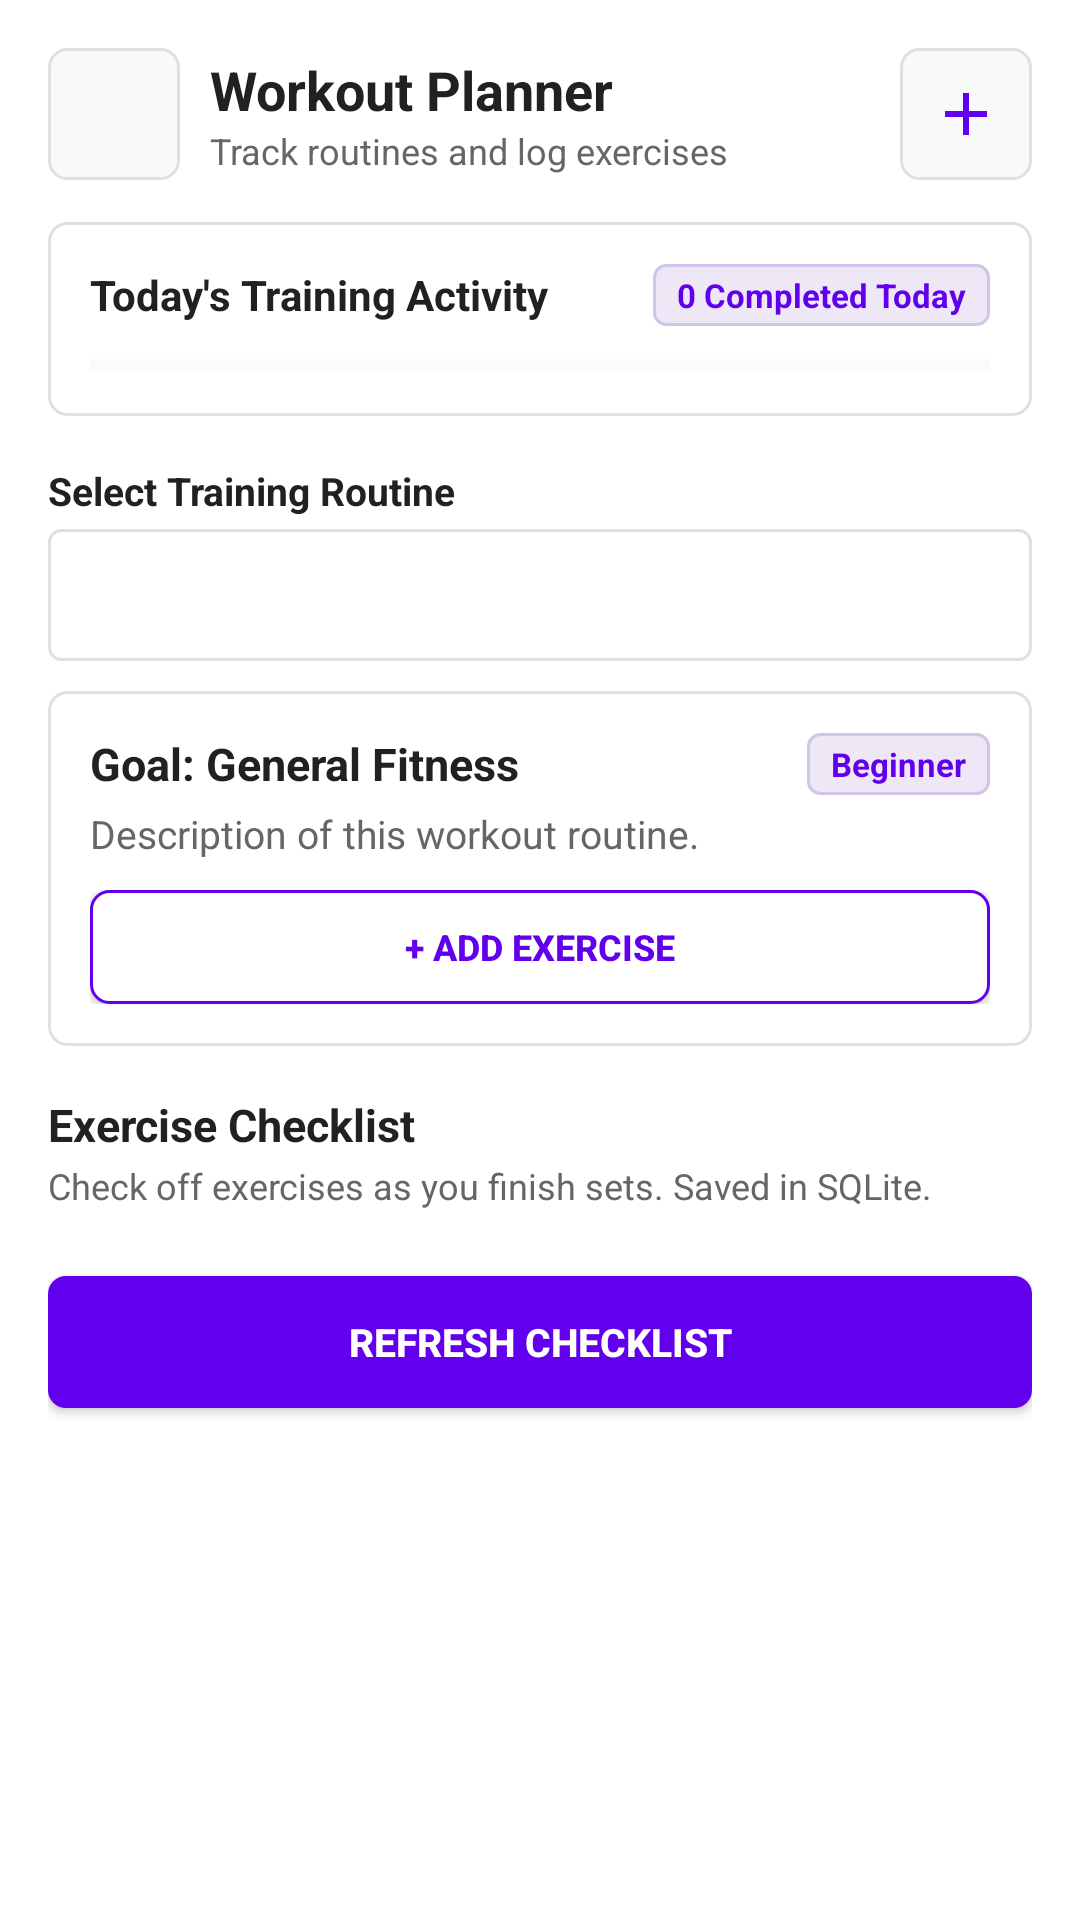

Where icons sit on this 1080×1920 app screen, as (x1, y1, x2, y2):
New Plan: (900, 48, 1032, 180)
